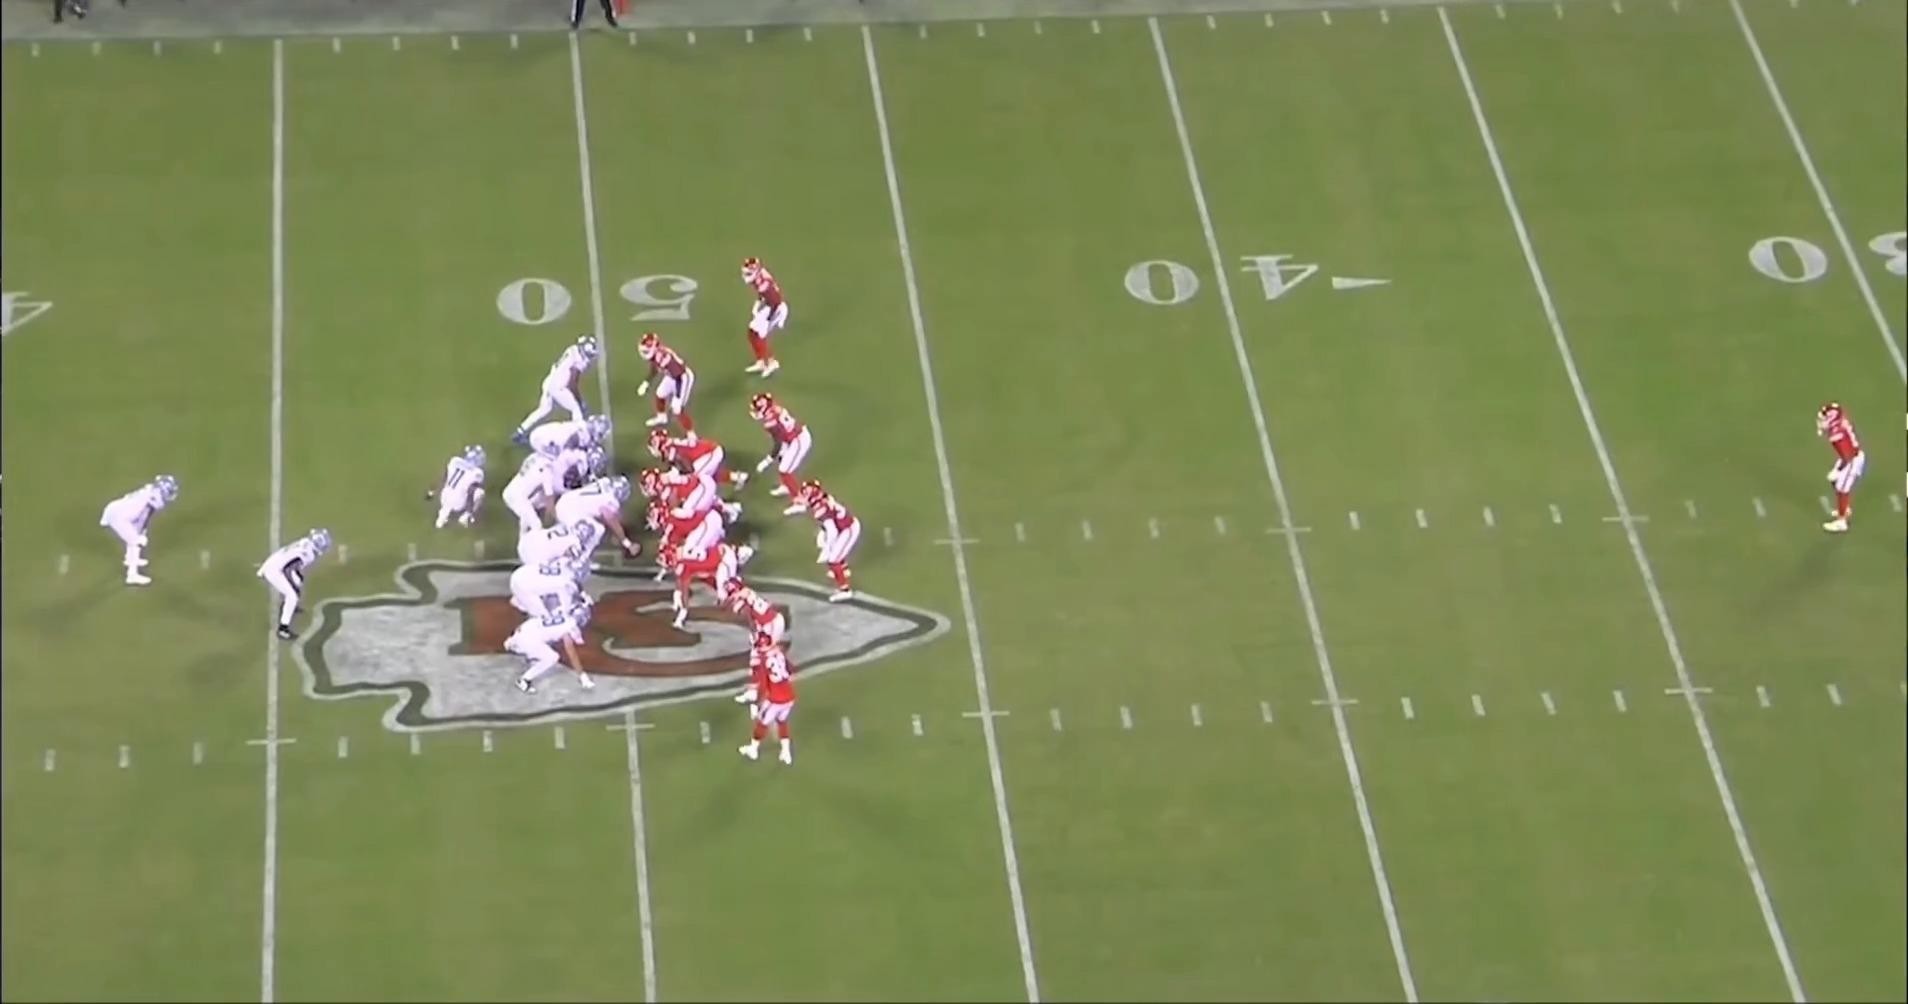player: (99, 471, 185, 595), (517, 329, 609, 439), (260, 526, 341, 646), (504, 598, 596, 702), (730, 631, 797, 766), (659, 539, 756, 632), (508, 557, 599, 656), (800, 479, 869, 608), (742, 394, 813, 519), (557, 478, 646, 575), (1813, 401, 1874, 542), (737, 250, 796, 381), (631, 331, 698, 442), (500, 449, 563, 558), (427, 441, 496, 539), (730, 580, 800, 675), (649, 428, 745, 491), (514, 517, 597, 584), (644, 498, 723, 557), (524, 414, 608, 462), (640, 469, 719, 514), (539, 445, 610, 495)
